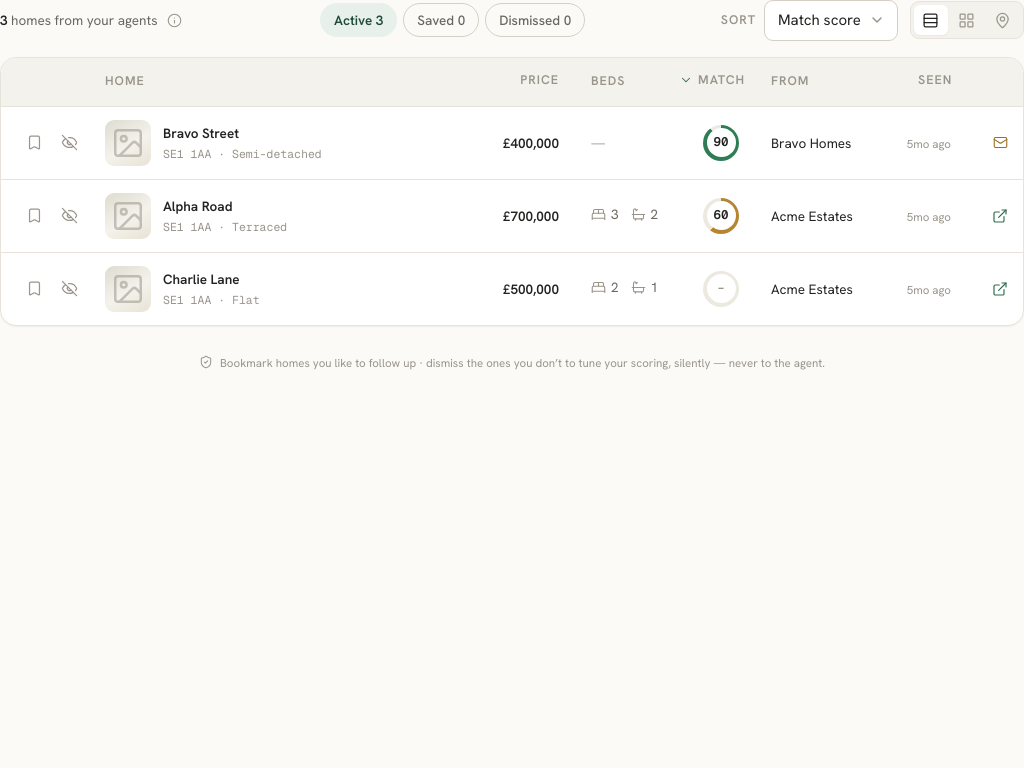
Test: ListingsPage view toggle › switches to the card grid and persists the choice
The width and height of the screenshot is (1024, 768).
Expected: the table with test id "listings-table" is shown, top-left (1, 58), bottom-right (1023, 325)
Click the button with test id "view-cards": {"x": 967, "y": 20} top-left (950, 5), bottom-right (984, 35)
(page scrolled)
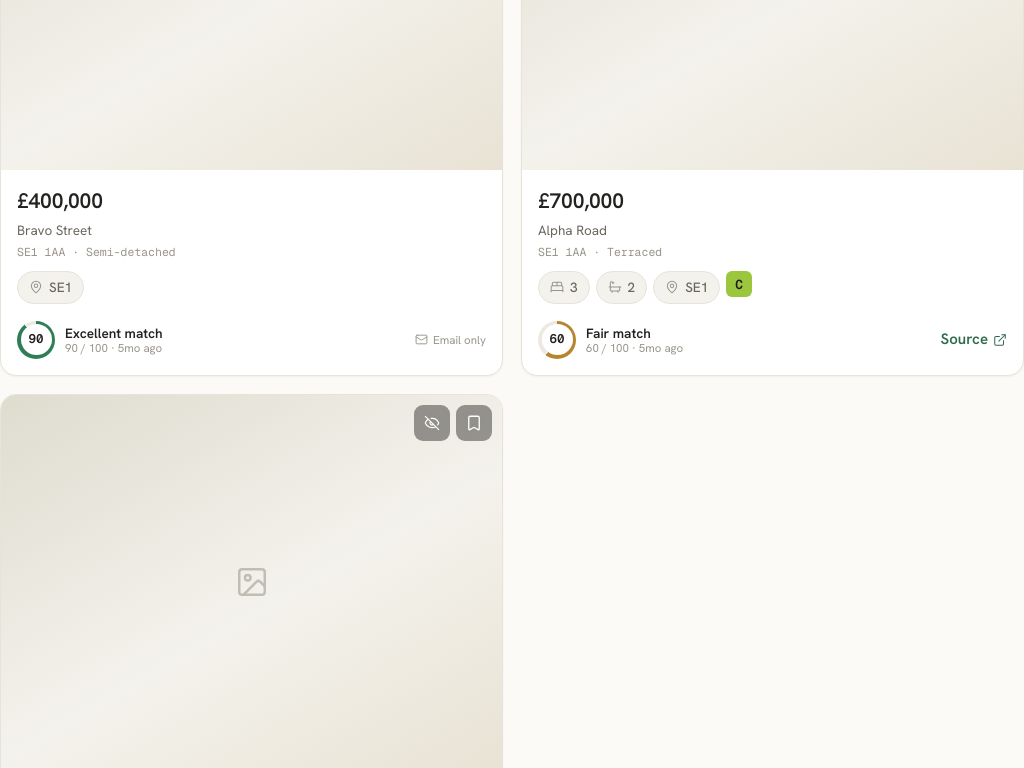
Now the table with test id "listings-table" is gone
